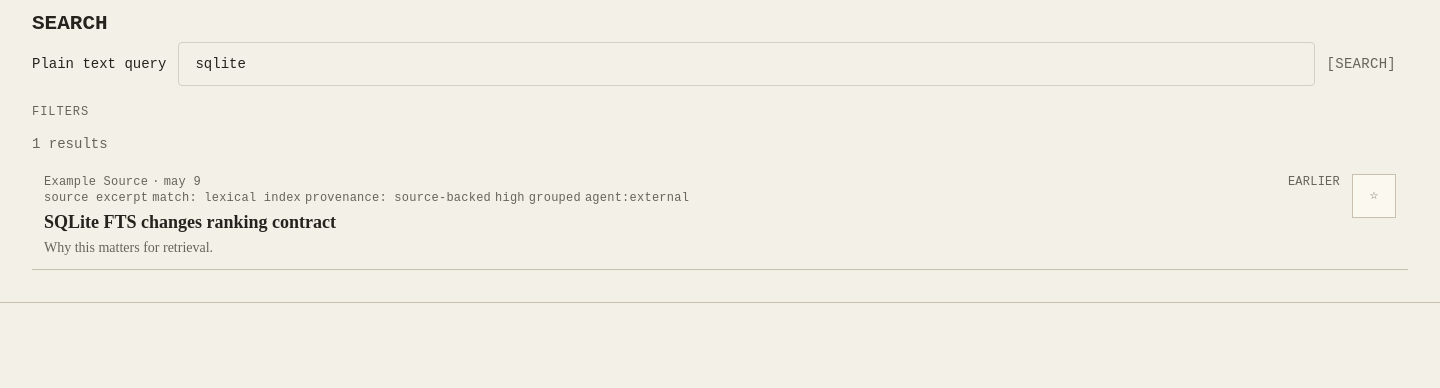
Test case: expected-red rendering contracts from docs/DESIGN.md › renders search/retrieval with filters collapsed by default and still openable
Expected: the field labelled "Plain text query" holds "sqlite", [178,42,1314,86]
Click the heading "filters" at (61, 112), box [32,105,89,119]
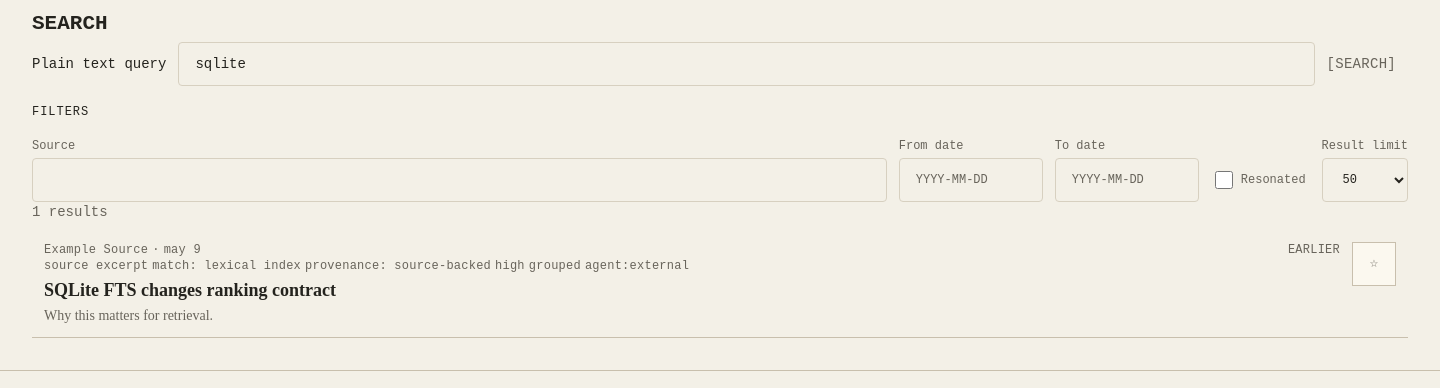
Expected: the field named "Source filter" is shown, [32,158,887,202]
Expected: the field labelled "From date" is shown, [899,158,1043,202]
Expected: the checkbox named "Resonated only" is shown, [1215,171,1233,189]
